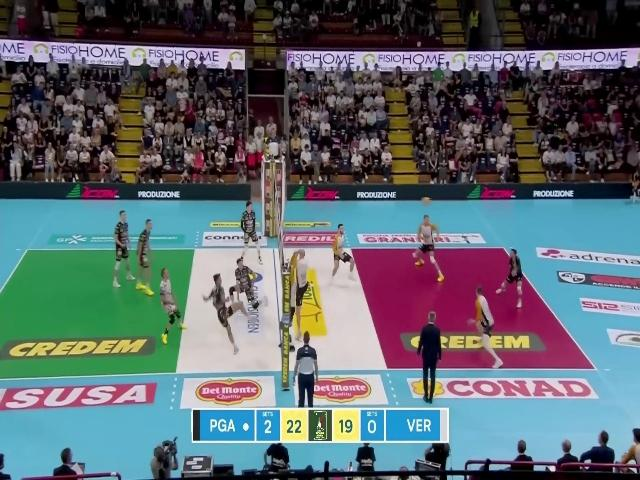volleyball court: (1, 250, 597, 379)
